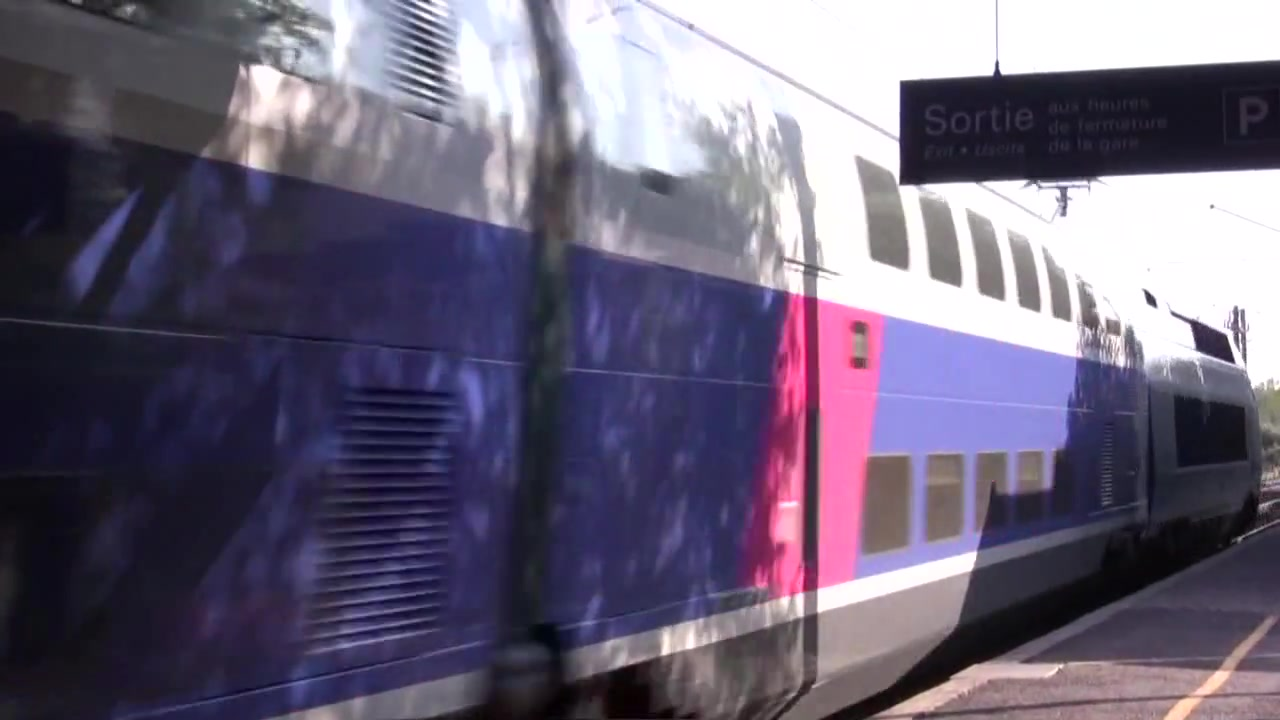train: (1, 1, 1265, 720)
